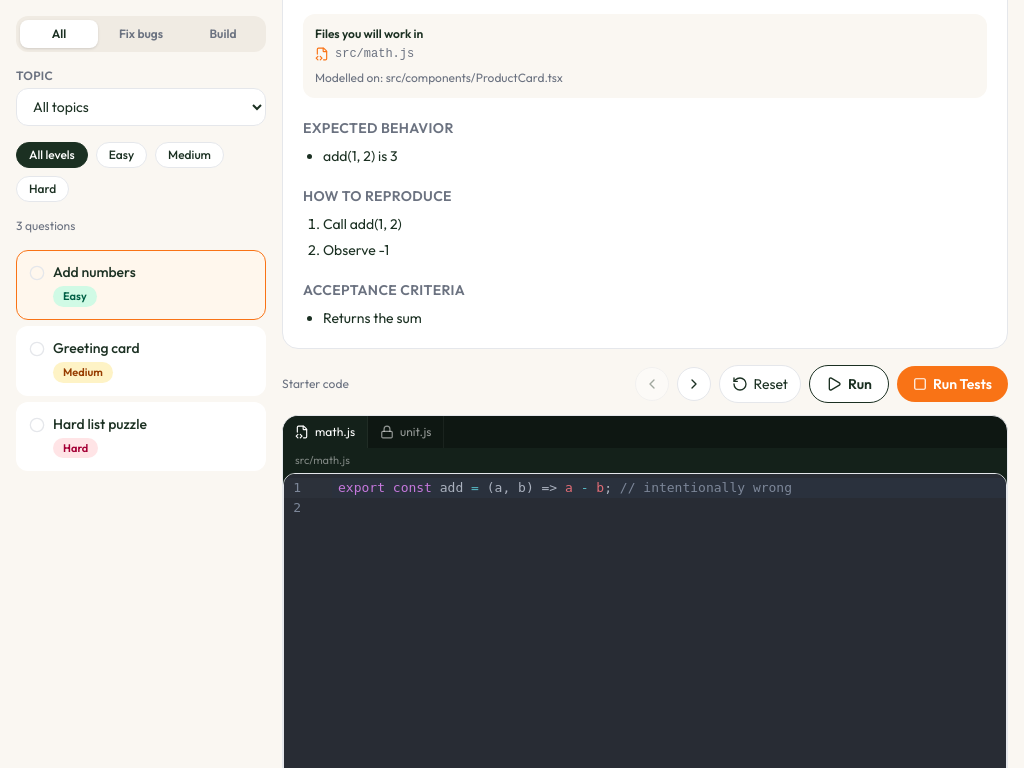
Test: running tests › runs the tests against the learner's code and shows real failures with messages
The image size is (1024, 768).
(page scrolled)
Click the button "Run Tests" at (952, 384), box [897,366,1008,402]
(page scrolled)
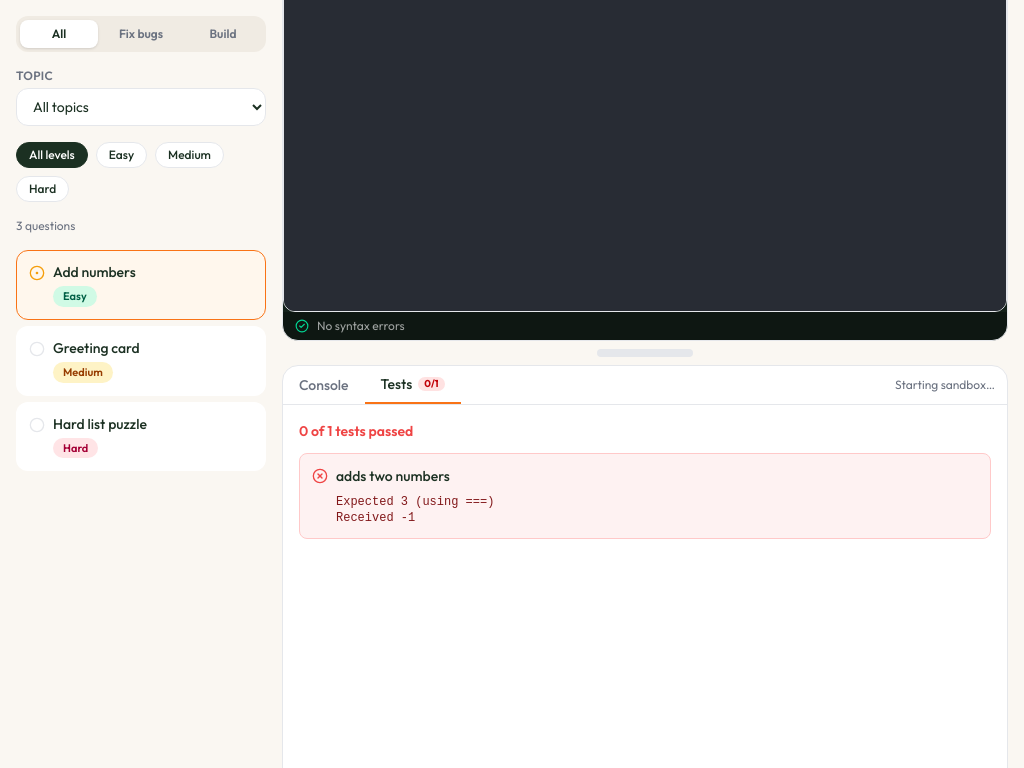
Expected: the element with test id "results" shows "0 of 1 tests passed", [299,422,413,440]
Expected: the element with test id "results" shows "adds two numbers", [336,467,450,485]
Expected: the element with test id "results" shows "Expected 3", [336,495,494,525]
